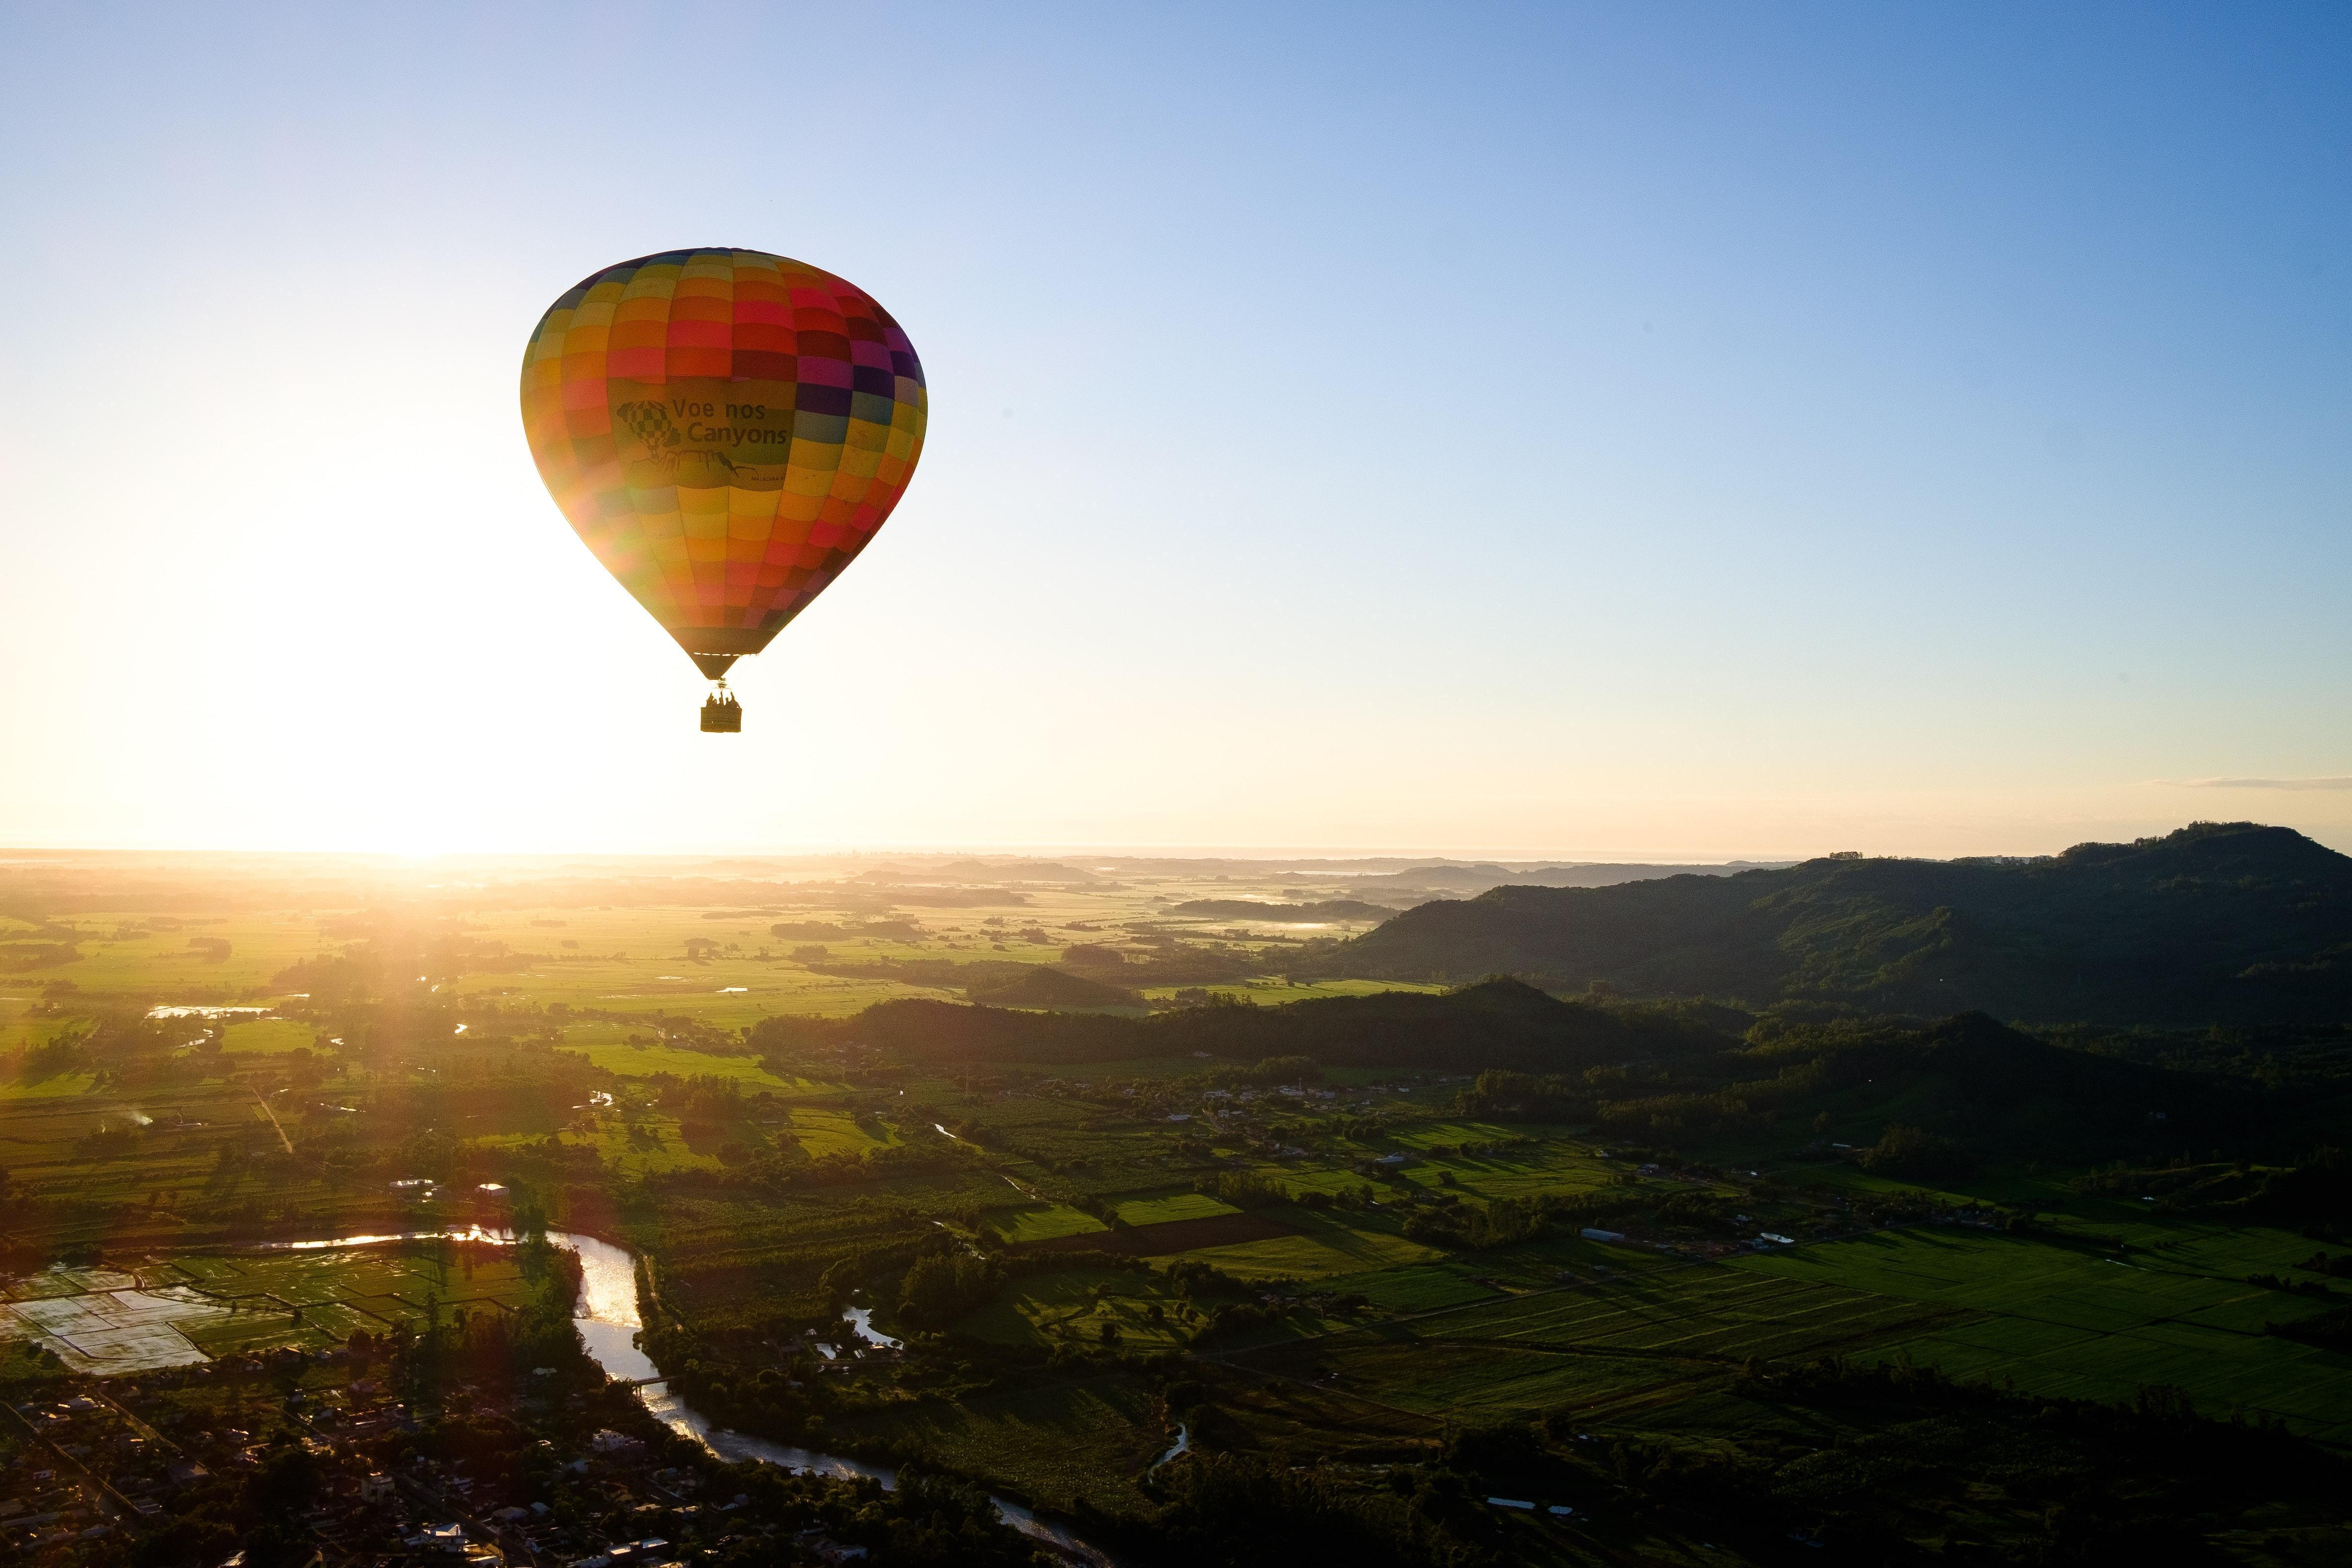hot air ballon: (514, 245, 934, 740)
